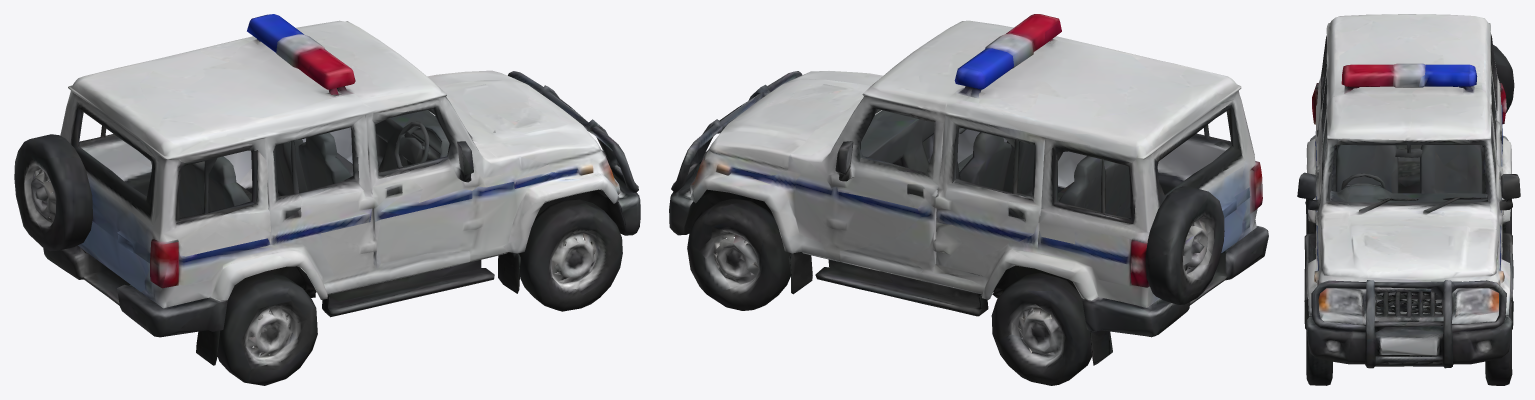
The model's file is police.glb.
3 renders of one model, left to right at view 1: azimuth 30°, elevation 25°; view 2: azimuth 150°, elevation 25°; view 3: azimuth 270°, elevation 25°, orthographic. The views are drawn at different scales.
Parts seen in each view (by area): view 1: tripo_node_a0111b5e-0ca0-44f2-8589-67dc1035ec91; view 2: tripo_node_a0111b5e-0ca0-44f2-8589-67dc1035ec91; view 3: tripo_node_a0111b5e-0ca0-44f2-8589-67dc1035ec91.
Part boxes in pixels (x1,y1,x2,y2): tripo_node_a0111b5e-0ca0-44f2-8589-67dc1035ec91: [14, 14, 640, 385]; tripo_node_a0111b5e-0ca0-44f2-8589-67dc1035ec91: [669, 14, 1268, 385]; tripo_node_a0111b5e-0ca0-44f2-8589-67dc1035ec91: [1297, 14, 1520, 385].
Size of the model in its own units: 1 by 0.5028 by 0.446.
1 material, 1 textured.
